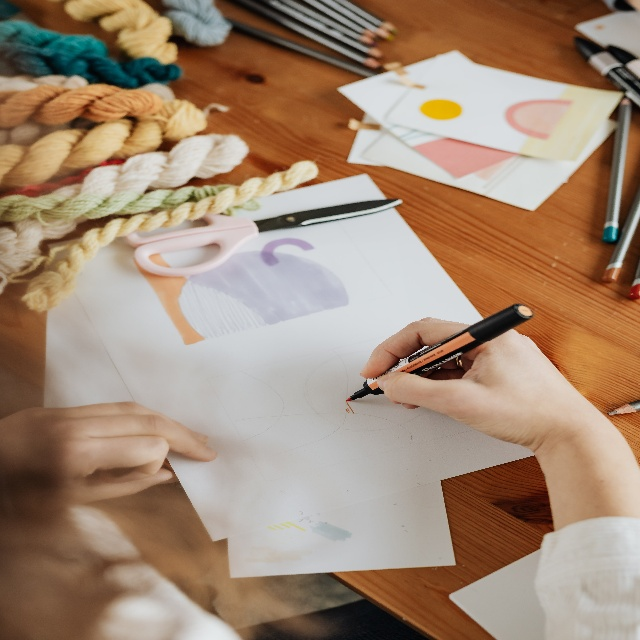Sin_guantes: (360, 316, 585, 453), (1, 401, 218, 500)
